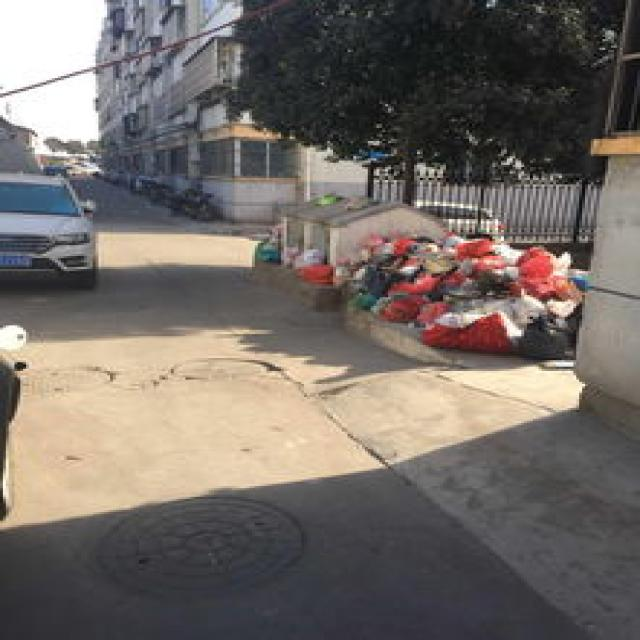garbage: (252, 223, 591, 358)
